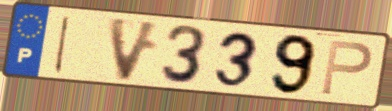3: (210, 29, 267, 91), (159, 24, 211, 87)
9: (268, 32, 321, 96)
I: (51, 14, 74, 75)
P: (318, 37, 375, 98)
V: (106, 14, 164, 83)
